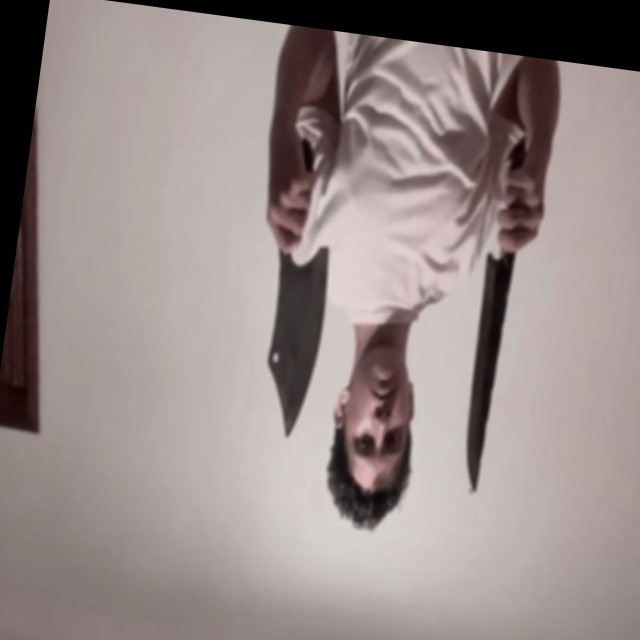Sharp-Object: (257, 239, 334, 442), (452, 251, 515, 494)
